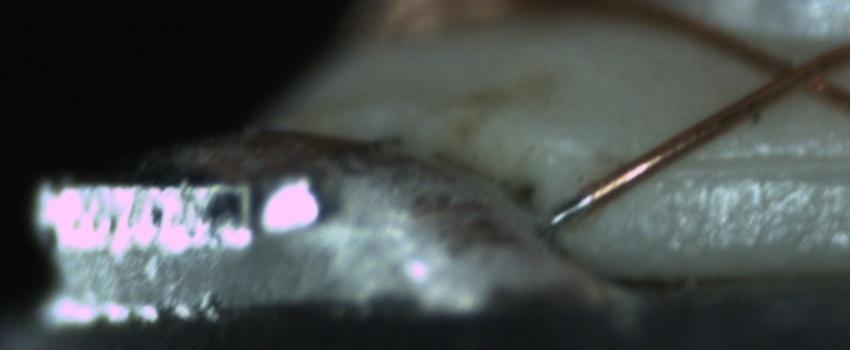CL: (750, 41, 844, 104)
DL: (676, 126, 846, 192)
TS: (541, 190, 595, 231)
TTCW: (542, 171, 624, 234)
